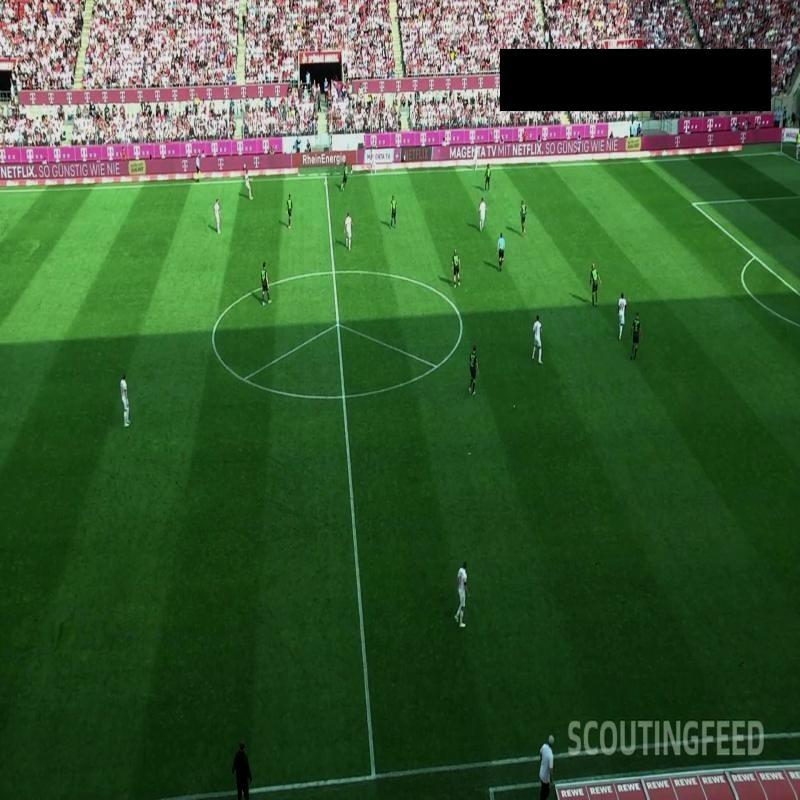1: (774, 146, 789, 160)
10: (748, 251, 762, 264)
13: (320, 169, 334, 183)
14: (326, 264, 340, 278)
15: (336, 388, 350, 403)
16: (359, 766, 388, 789)
9: (687, 199, 701, 213)
c: (448, 307, 474, 325), (208, 330, 222, 344)
